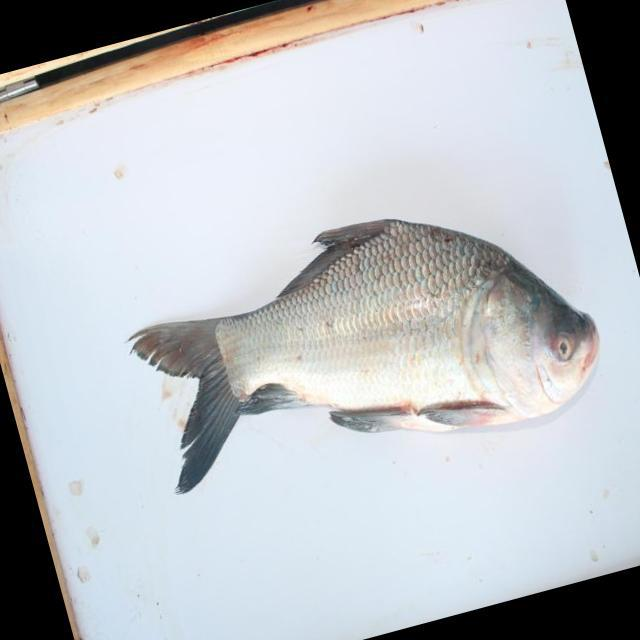Catla: (124, 206, 604, 491)
